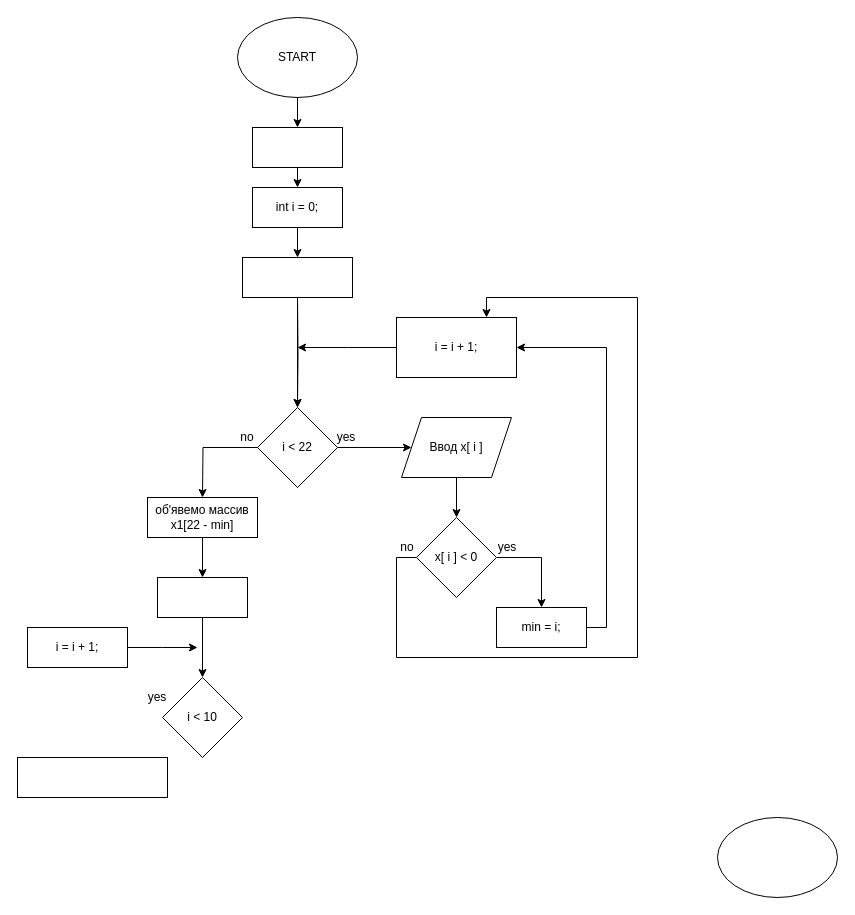
This 855x915 diagram has some shape labels left out. Each missing label, with the centre of its shape:
"END" goes at point (777, 857).
"i = 0;" goes at point (202, 597).
"int negid = 0;" goes at point (297, 147).
"x1[min + i] = x[i];" goes at point (92, 777).
"об'явемо массив x[22]" goes at point (297, 277).
